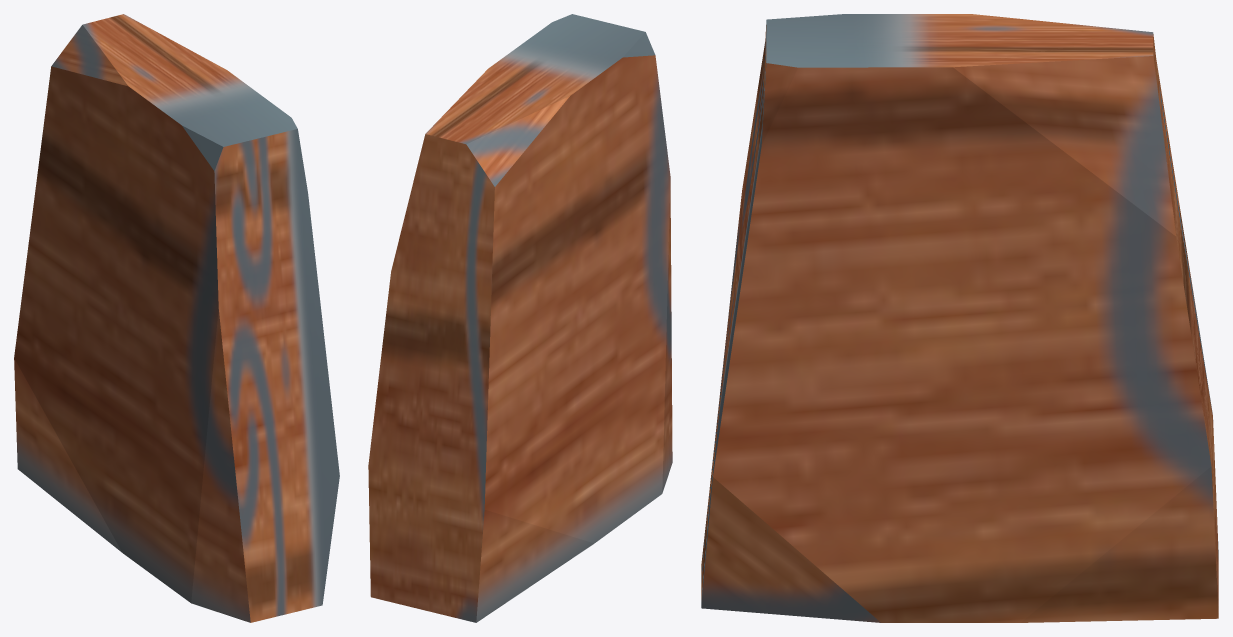
File: Kamen_normal11.fbx
3 views of the same model, side by side, from view 1: azimuth 30°, elevation 25°; view 2: azimuth 150°, elevation 25°; view 3: azimuth 270°, elevation 25° (orthographic). The views are drawn at different scales.
Visible parts, largest first — view 1: Kamen_normal11; view 2: Kamen_normal11; view 3: Kamen_normal11.
Boxes of the visible parts, bbox=[...] form: Kamen_normal11: bbox=[14, 14, 339, 622]; Kamen_normal11: bbox=[368, 14, 672, 622]; Kamen_normal11: bbox=[701, 14, 1218, 622].
Bounding box in the file's own units: 5.48 × 19.68 × 16.88.
